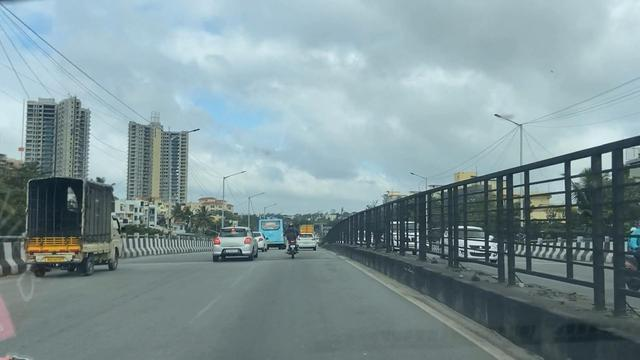HMV: (25, 173, 126, 287), (253, 203, 288, 253)
LMV: (209, 209, 262, 266), (270, 208, 310, 269), (288, 220, 320, 252)
